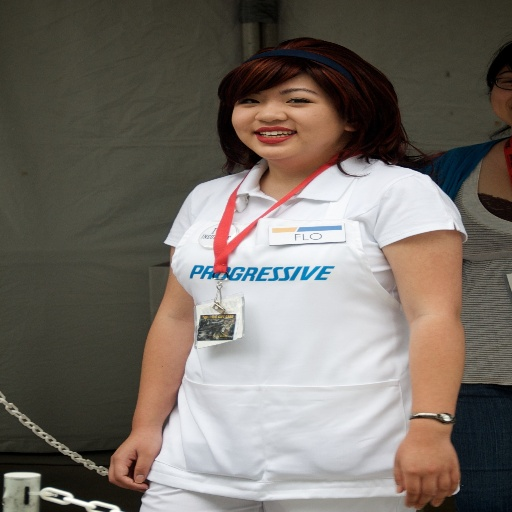hand: (401, 416, 471, 508), (106, 430, 165, 494)
